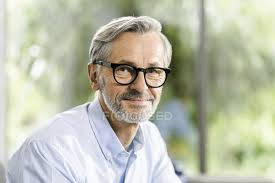Glasses: (90, 55, 179, 88)
